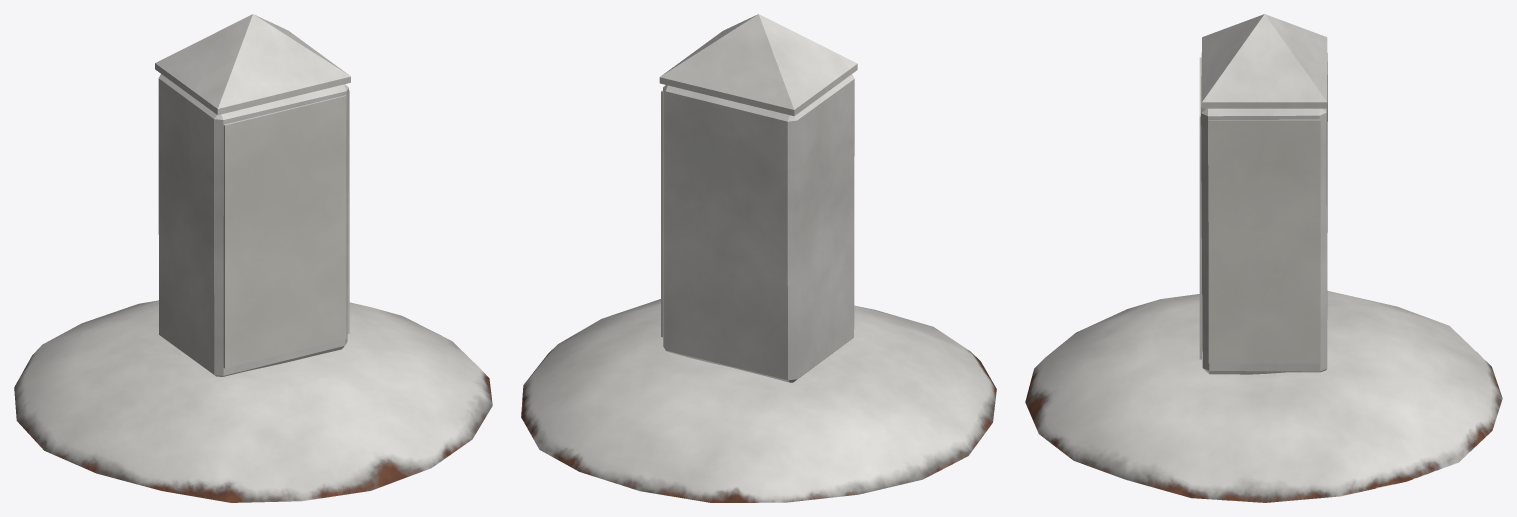
File: KilometerPost.fbx
3 views of the same model, side by side, from view 1: azimuth 30°, elevation 25°; view 2: azimuth 150°, elevation 25°; view 3: azimuth 270°, elevation 25° (orthographic).
Parts seen in each view (by area): view 1: KilometerPost; view 2: KilometerPost; view 3: KilometerPost.
Part boxes in pixels (x1,y1,x2,y2): KilometerPost: (14,14,492,502); KilometerPost: (521,14,996,502); KilometerPost: (1025,14,1502,502).
Bounding box in the file's own units: 118 × 106 × 117.
Materials: 2 (2 with a texture image).
